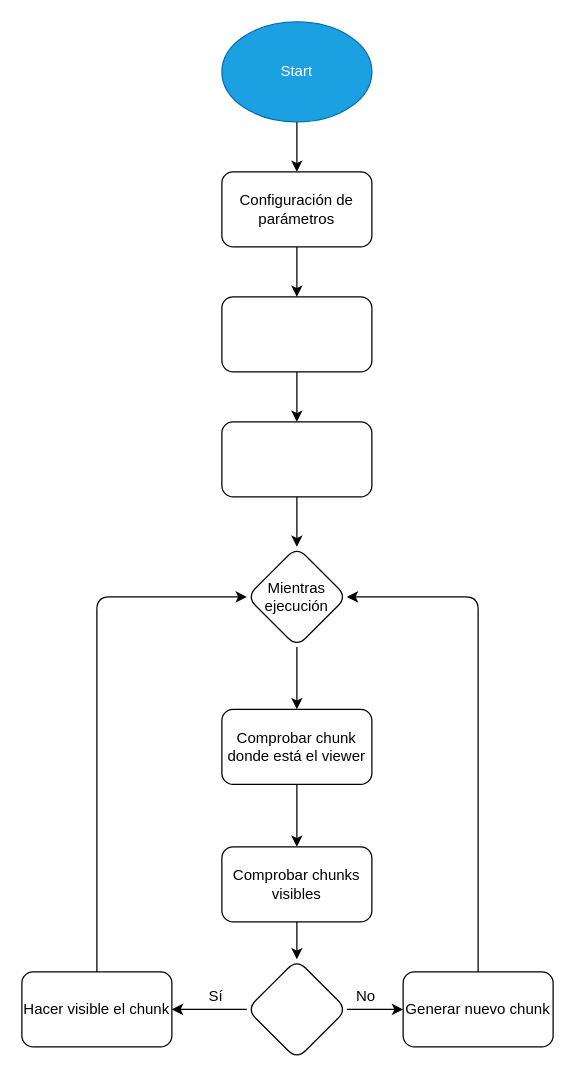
Some shapes in this 575 by 1081 pixel diagram are drawn without their labels. The shapes that lost their labels are listed below. From the top down, each one's centre as x and y in pixels, then its label:
At (296,334): "Incio de generación inifinita".
At (296,459): "Generación de chunks visibles".
At (296,1008): "Chunk visitado?".
